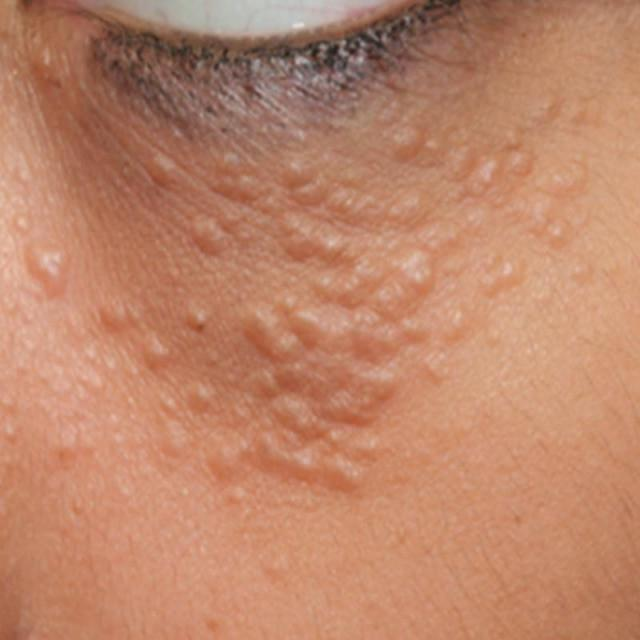blackheads: (212, 152, 422, 499), (372, 68, 600, 308), (6, 182, 107, 317)
